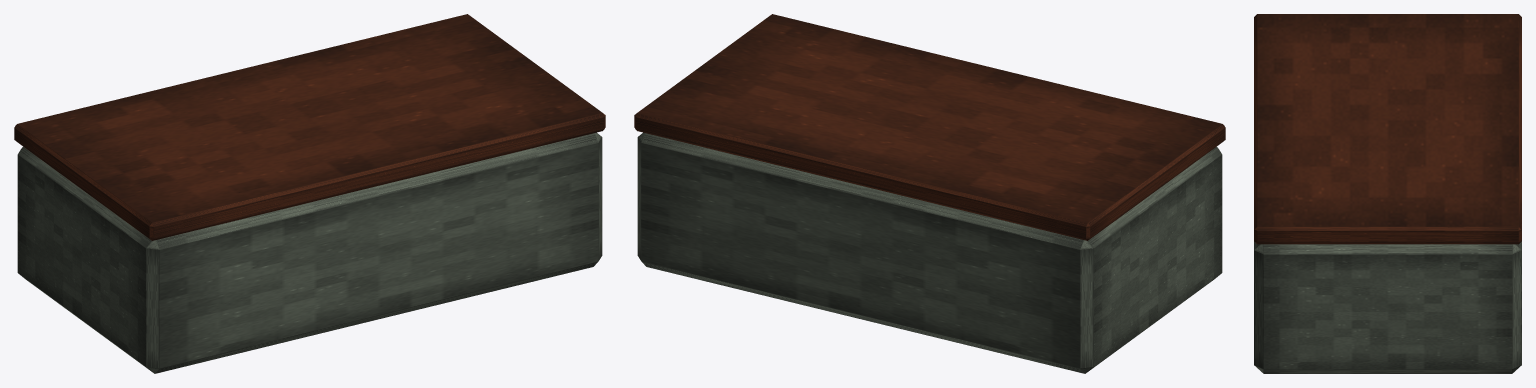
The model's file is THStage_FindSupport_03.fbx.
3 renders of one model, left to right at view 1: azimuth 30°, elevation 25°; view 2: azimuth 150°, elevation 25°; view 3: azimuth 270°, elevation 25°, orthographic. The views are drawn at different scales.
Parts seen in each view (by area): view 1: THStage_FindSupport_03; view 2: THStage_FindSupport_03; view 3: THStage_FindSupport_03.
Part boxes in pixels (x1,y1,x2,y2): THStage_FindSupport_03: [14, 14, 605, 373]; THStage_FindSupport_03: [634, 14, 1225, 373]; THStage_FindSupport_03: [1254, 14, 1521, 373].
Bounding box in the file's own units: 0.628 × 0.204 × 0.33.
Materials: 1 (1 with a texture image).
